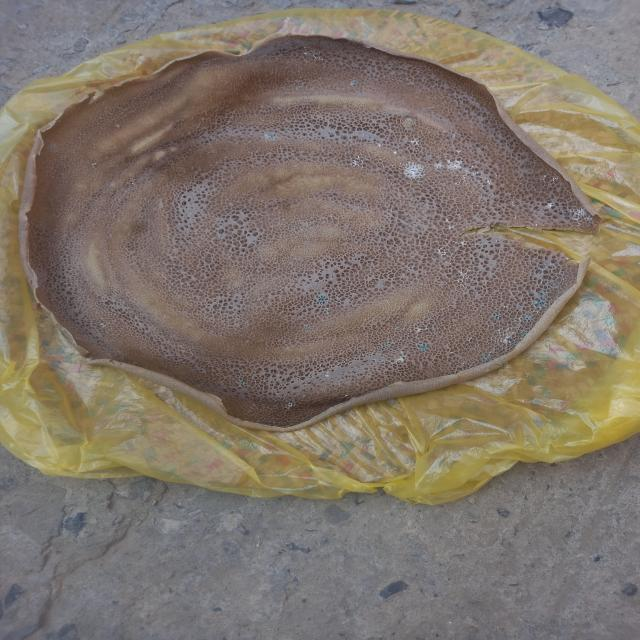injera_mold: (488, 325, 528, 352), (470, 164, 498, 185), (569, 204, 593, 227), (400, 161, 428, 180), (303, 45, 326, 62), (432, 158, 464, 170), (452, 268, 474, 284), (345, 152, 366, 168), (434, 243, 456, 258), (388, 351, 409, 365), (539, 174, 563, 186), (534, 291, 550, 307), (514, 312, 534, 324), (280, 400, 300, 411), (262, 133, 280, 142), (453, 175, 469, 185), (234, 379, 248, 389), (489, 311, 502, 321), (543, 199, 554, 210), (444, 218, 454, 229), (316, 294, 328, 303), (408, 138, 420, 146), (417, 345, 430, 351), (479, 355, 491, 361), (322, 307, 331, 314), (294, 84, 303, 91), (372, 359, 385, 363), (99, 322, 107, 328), (350, 80, 358, 86), (416, 328, 427, 332), (304, 324, 312, 329), (393, 150, 399, 156), (539, 264, 545, 270), (376, 144, 384, 148), (380, 344, 387, 348), (449, 134, 456, 138), (91, 162, 97, 166), (394, 327, 400, 330), (116, 124, 120, 128), (551, 264, 555, 267)
